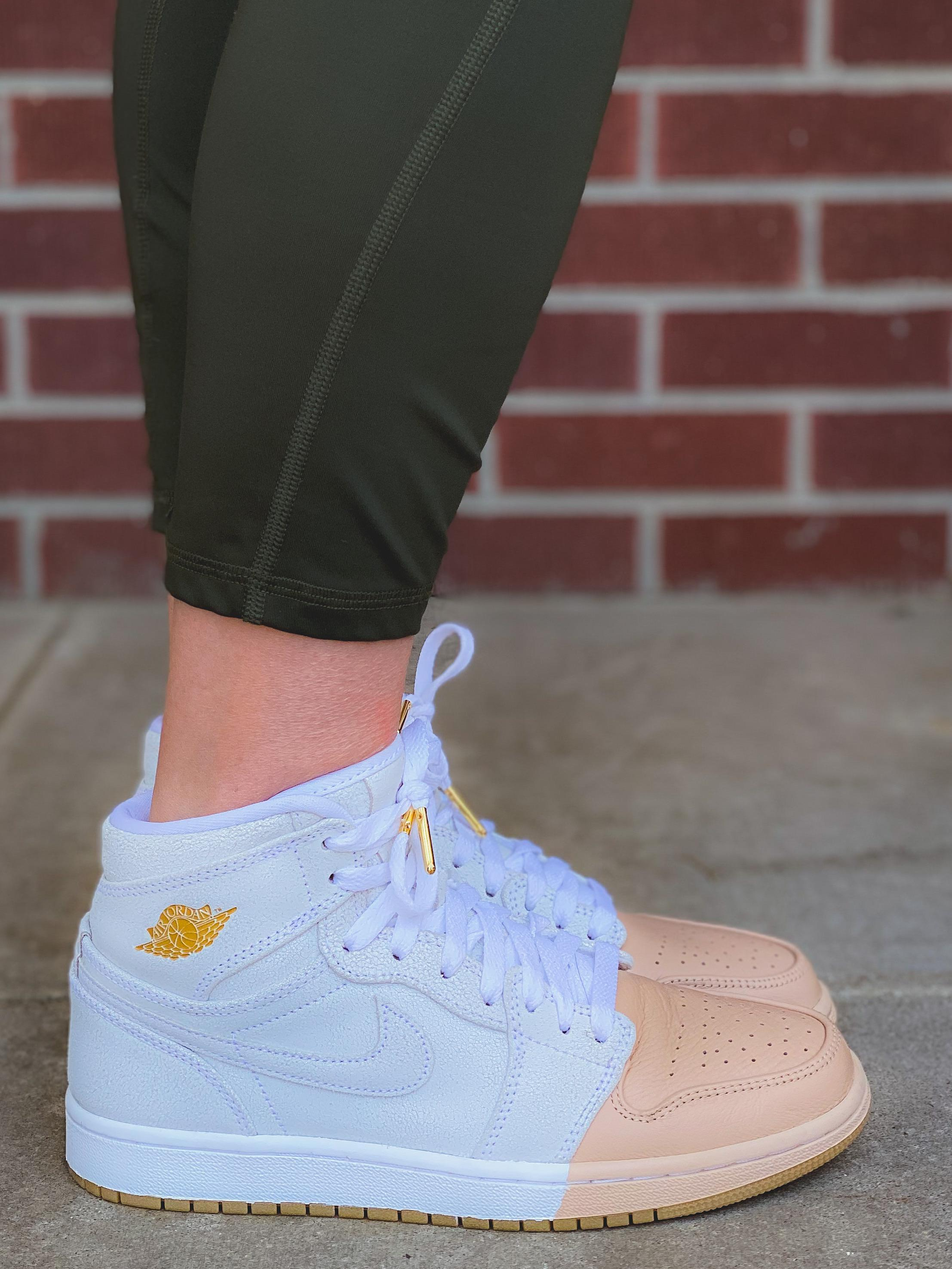sneaker: (9, 778, 913, 1230)
